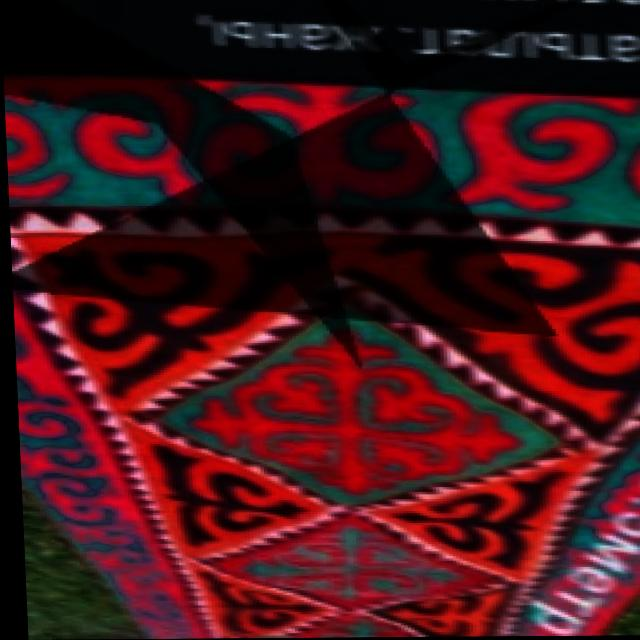Unity: (162, 315, 547, 499), (225, 520, 494, 606)
